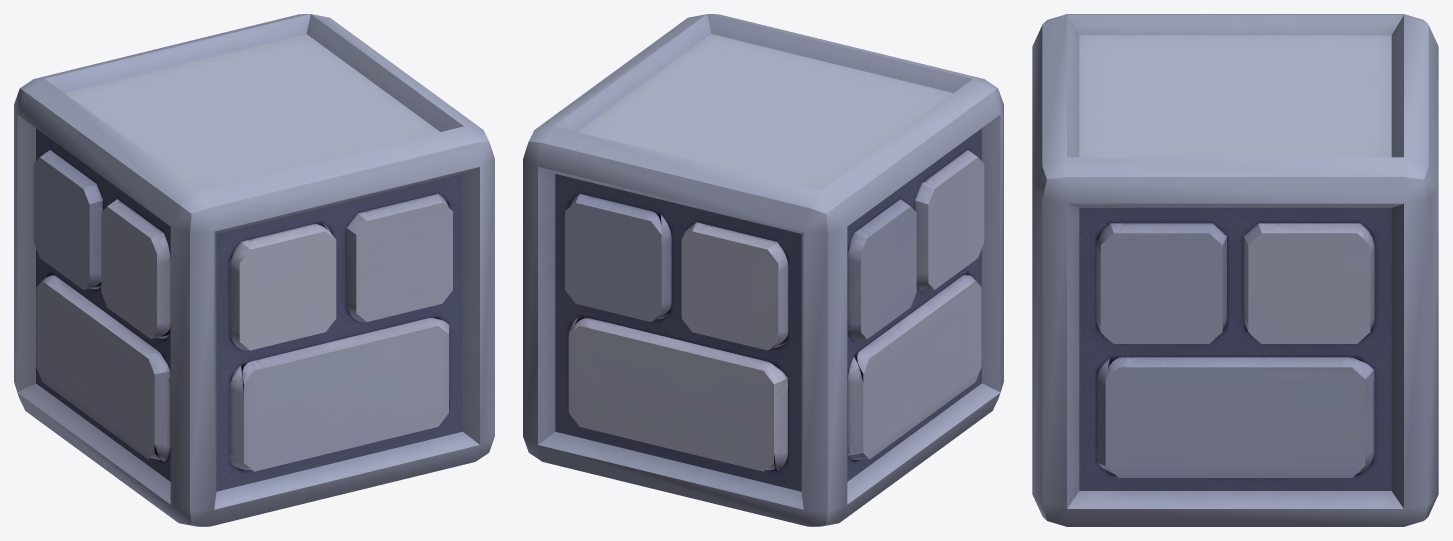
File: tas1.glb
3 views of the same model, side by side, from view 1: azimuth 30°, elevation 25°; view 2: azimuth 150°, elevation 25°; view 3: azimuth 270°, elevation 25° (orthographic). The views are drawn at different scales.
Visible parts, largest first — view 1: tas1; view 2: tas1; view 3: tas1.
Boxes of the visible parts, <box> form: tas1: <box>14,14,494,526</box>; tas1: <box>523,14,1003,526</box>; tas1: <box>1032,14,1438,526</box>.
Bounding box in the file's own units: 1.53 × 1.53 × 1.53.
Materials: 1 (1 with a texture image).
